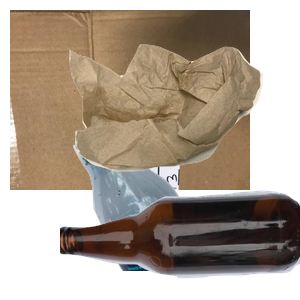cardboard: (10, 10, 250, 190)
glass: (60, 188, 300, 300)
plastic: (71, 120, 300, 300)
trash: (67, 42, 300, 206)
